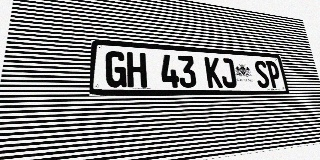3: (177, 55, 197, 88)
4: (160, 54, 180, 88)
G: (105, 51, 126, 87)
H: (127, 52, 147, 87)
J: (219, 58, 237, 88)
K: (204, 57, 223, 88)
P: (265, 61, 282, 88)
S: (253, 60, 271, 88)
